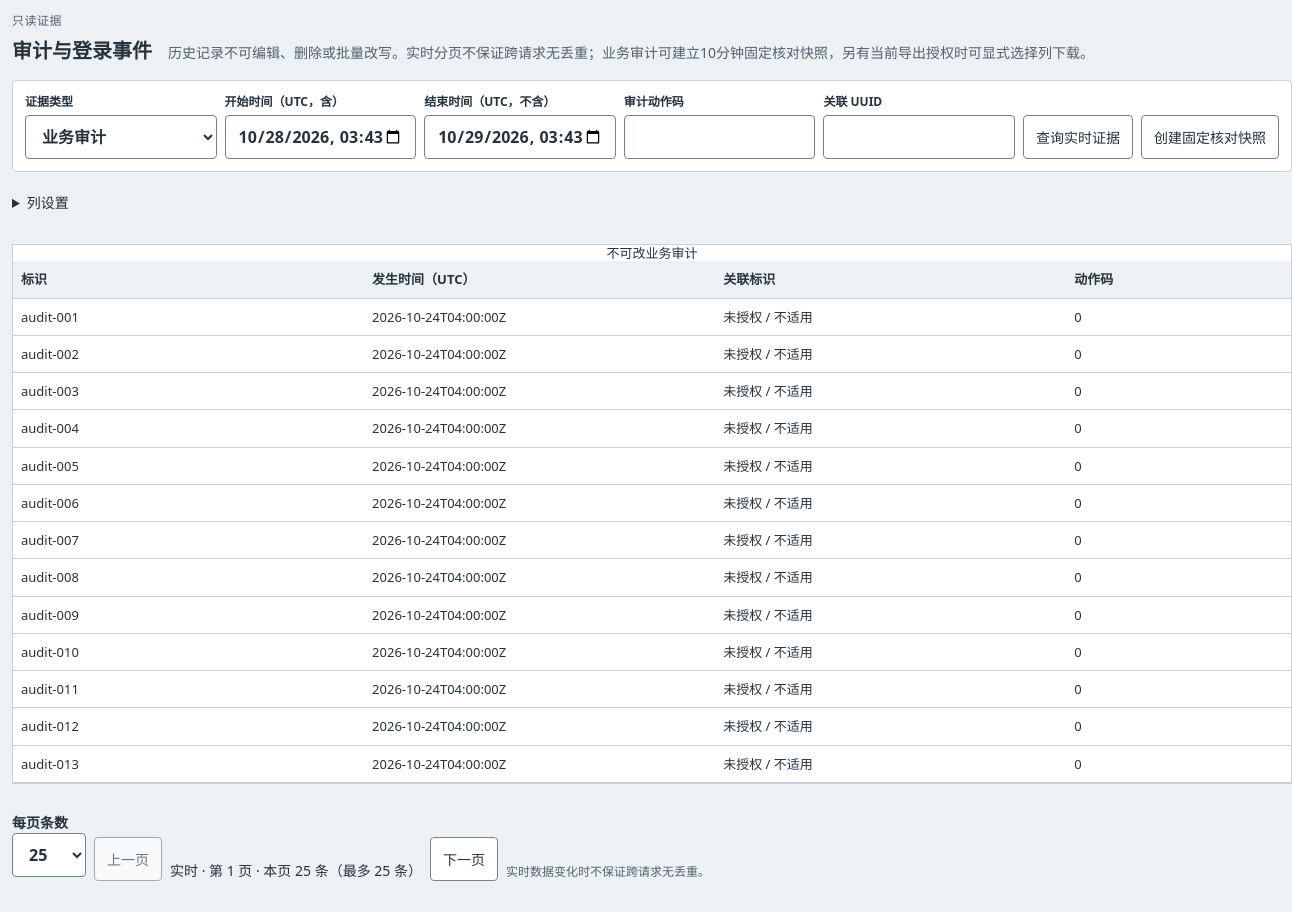
Scenario: pages sixty live rows with a 25 default and explicit 25/50/100 choices without inventing a total
The width and height of the screenshot is (1292, 912).
Expected: the navigation bar named "证据分页" shows "实时", [170,861,422,880]
Click the button with test id "next-page": coordinates (464, 859) [430,837,498,881]
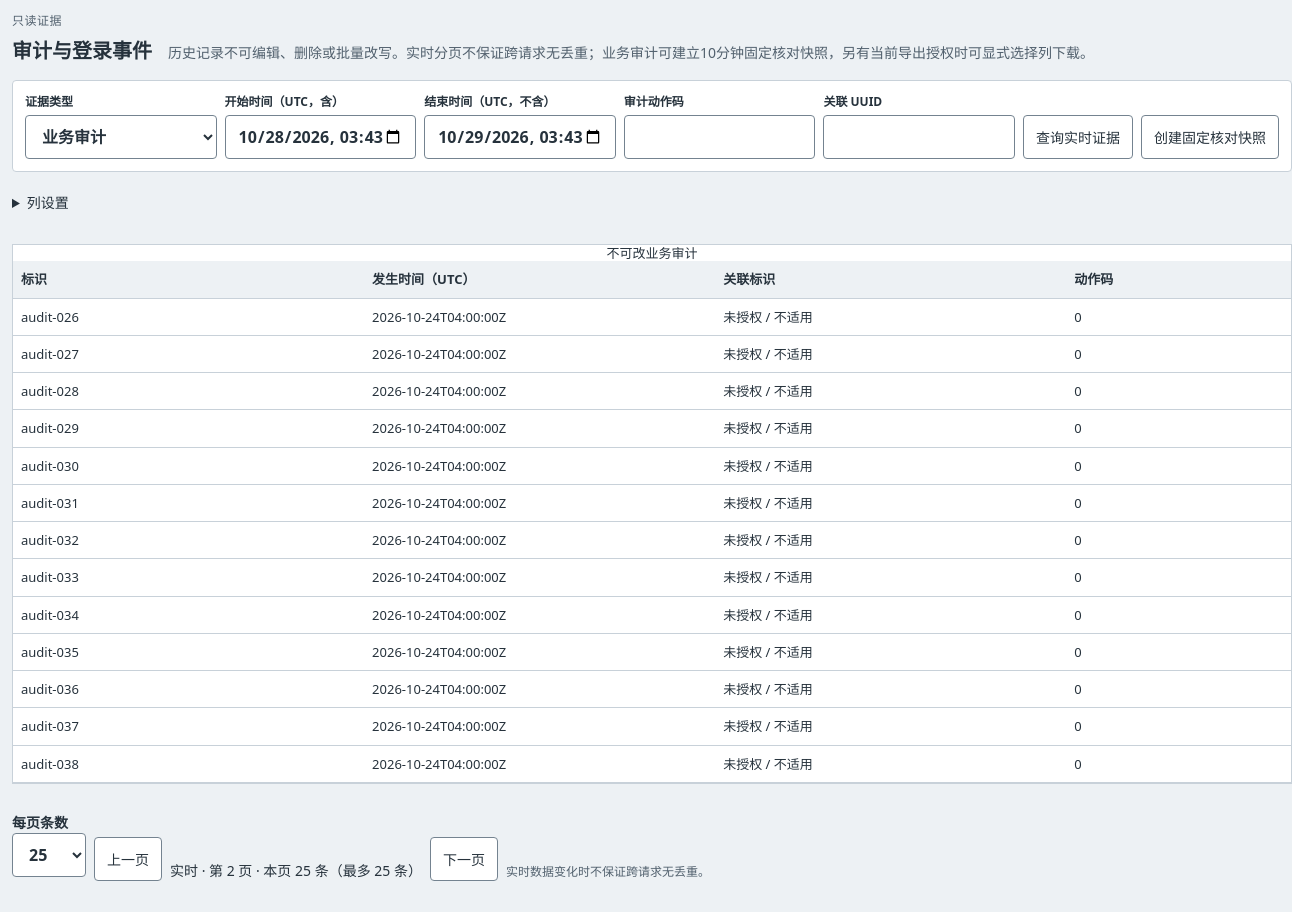
Expected: the row "audit-026 2026-10-24T04:00:00Z 未授权 / 不适用 0" is shown, [13,298,1291,335]
Click the button with test id "next-page": coordinates (464, 859) [430,837,498,881]
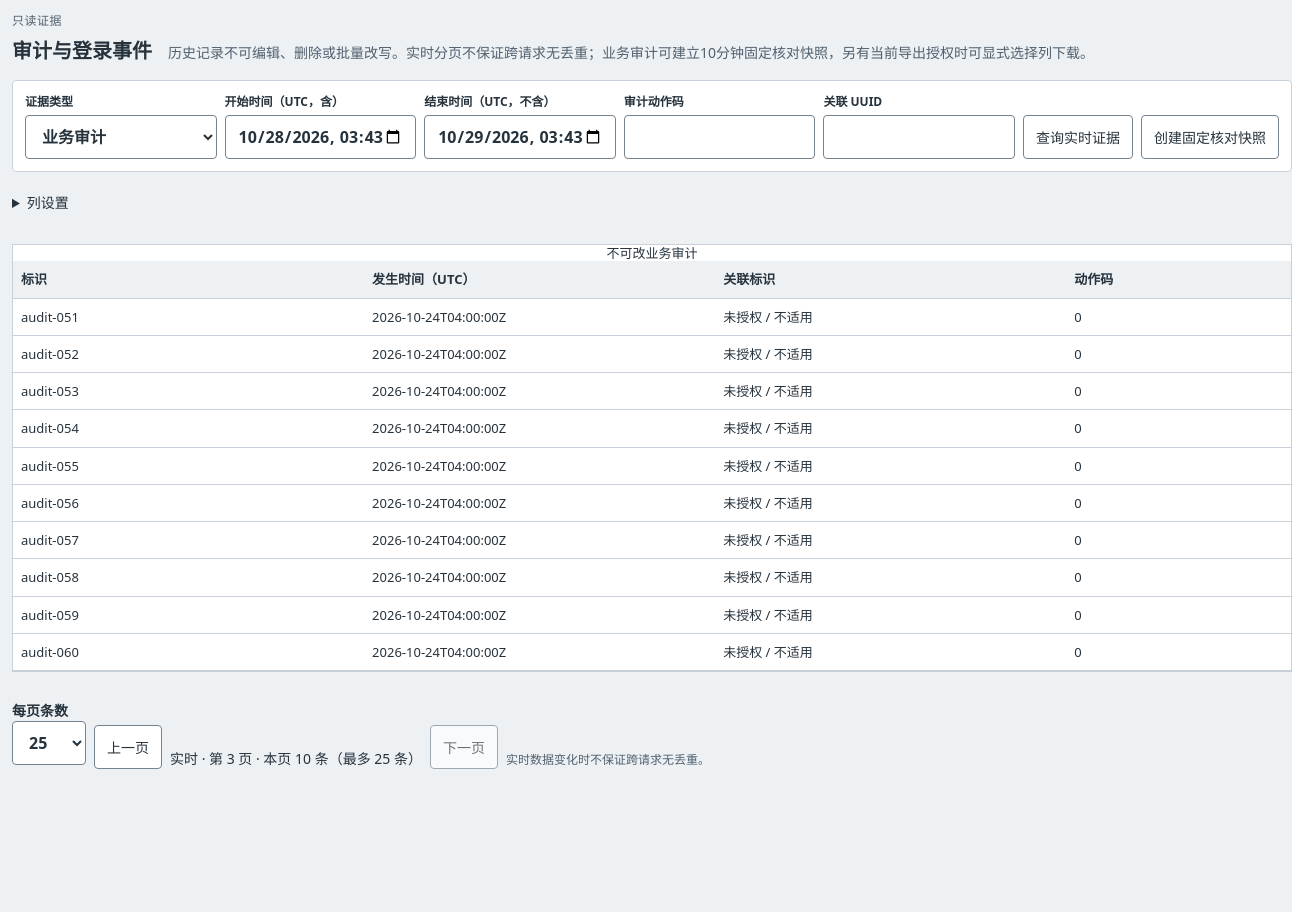
Expected: the button with test id "next-page" is disabled, [430,725,498,769]
Select "50" in the dropdown with id "audit-limit": coordinates (49, 743) [12,721,86,765]
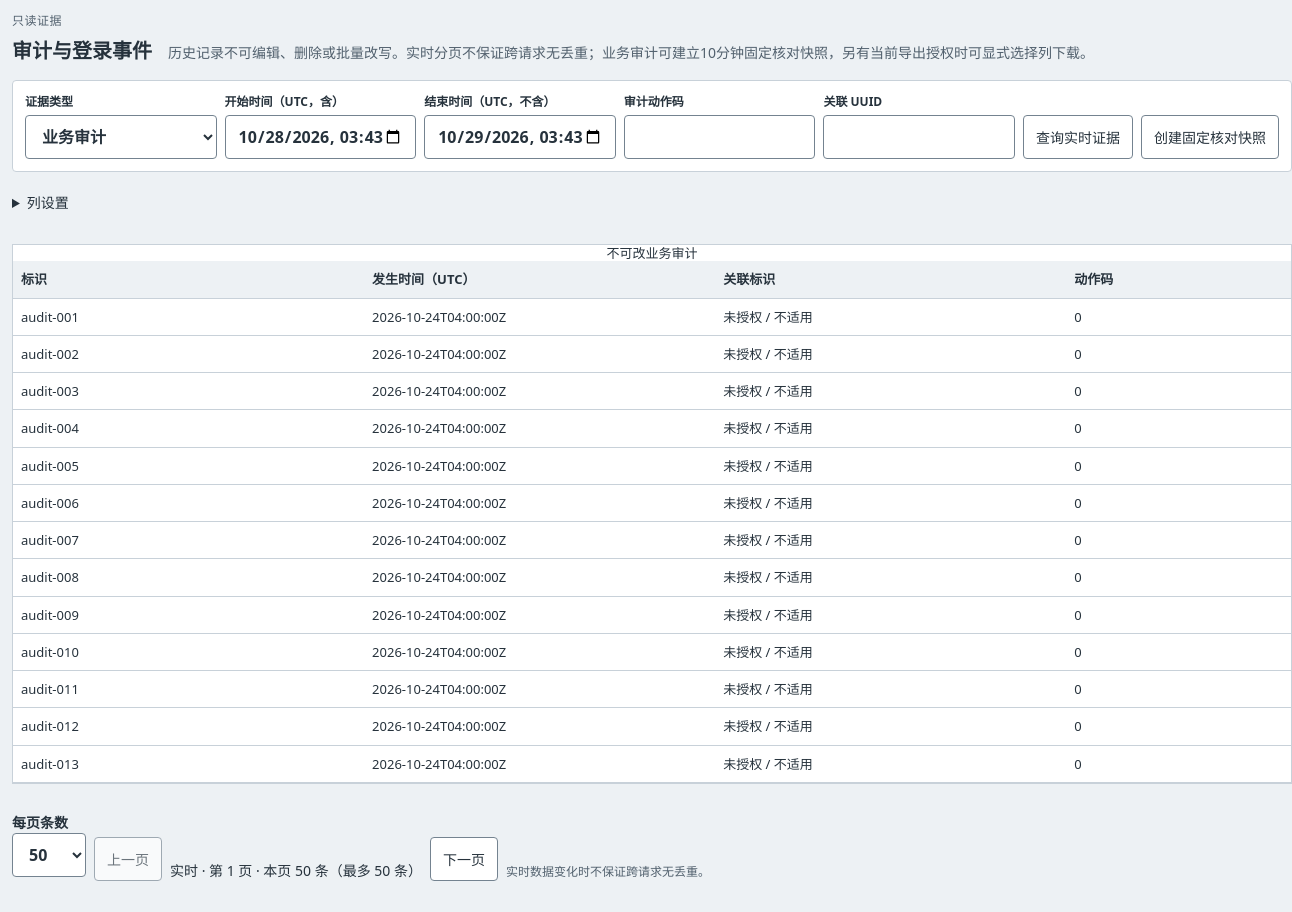
Select "100" in the dropdown with id "audit-limit": coordinates (49, 855) [12,833,86,877]
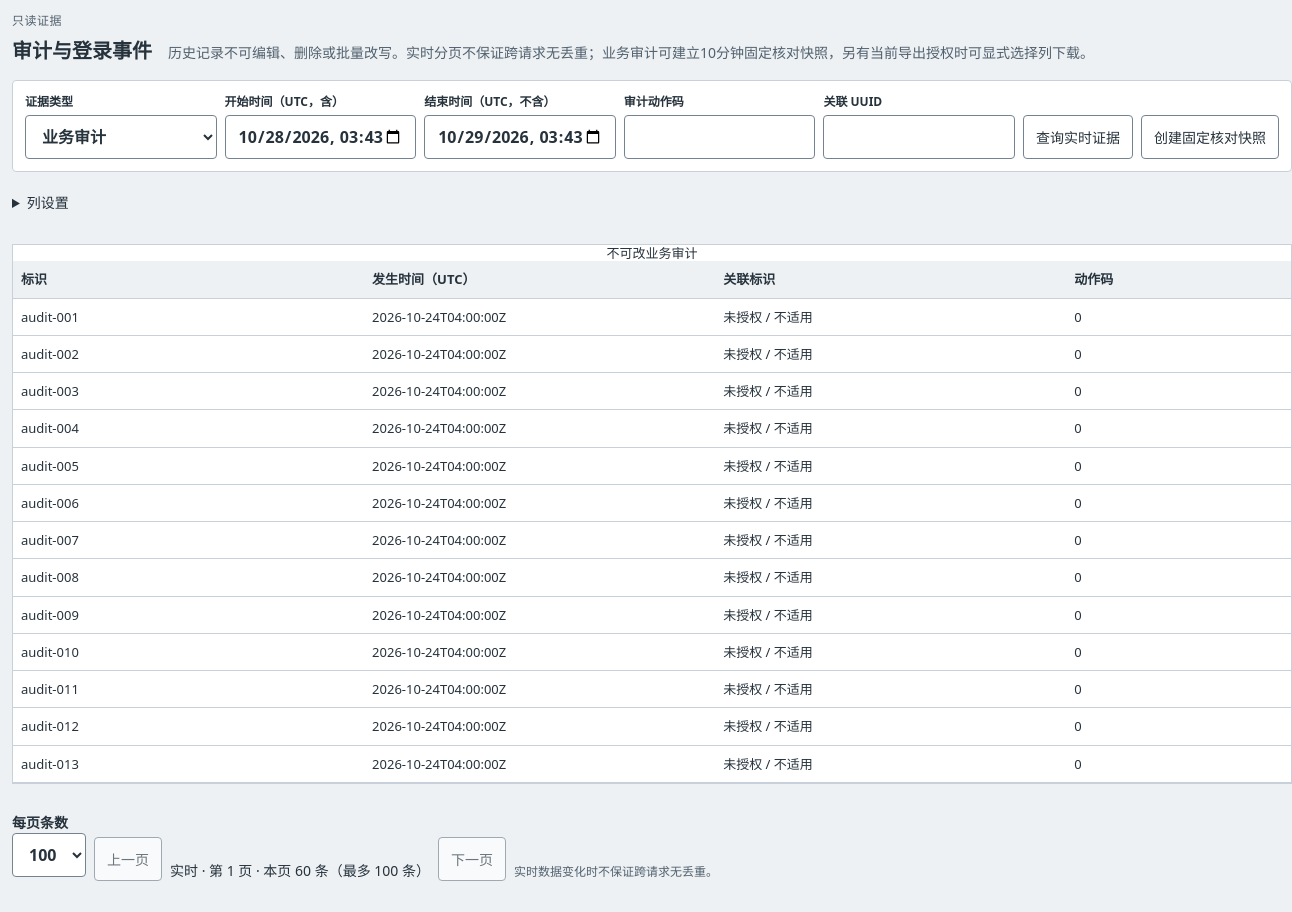
Expected: the button with test id "next-page" is disabled, [438,837,506,881]
